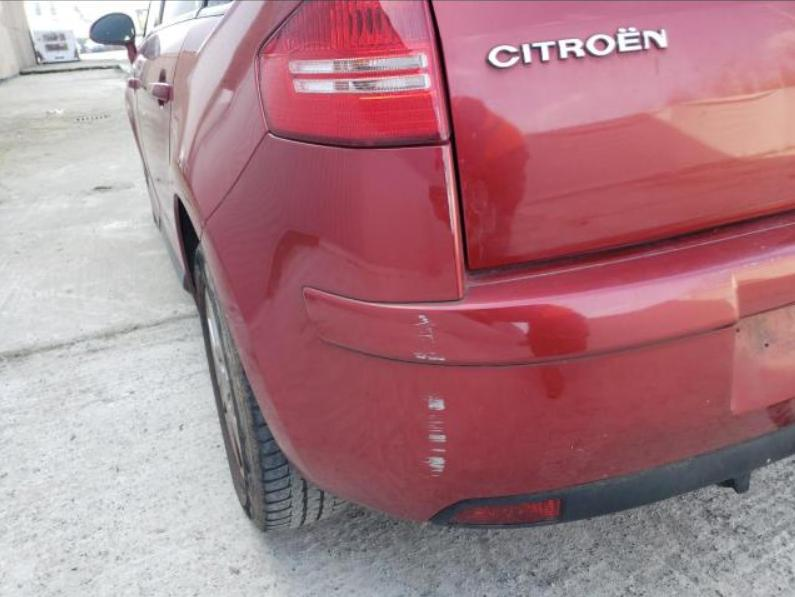Back-bumper: (199, 135, 795, 531)
Back-door: (140, 0, 201, 225)
Back-wheel: (194, 246, 351, 532)
Back-window: (162, 0, 199, 23)
Front-door: (124, 0, 160, 170)
Front-window: (144, 0, 160, 40)
License-plate: (732, 273, 795, 417)
Mirror: (88, 11, 137, 63)
Quarter-panel: (168, 0, 303, 249)
Rocker-panel: (147, 171, 195, 299)
Tail-light: (256, 0, 451, 147)
Trunk: (430, 2, 793, 284)
